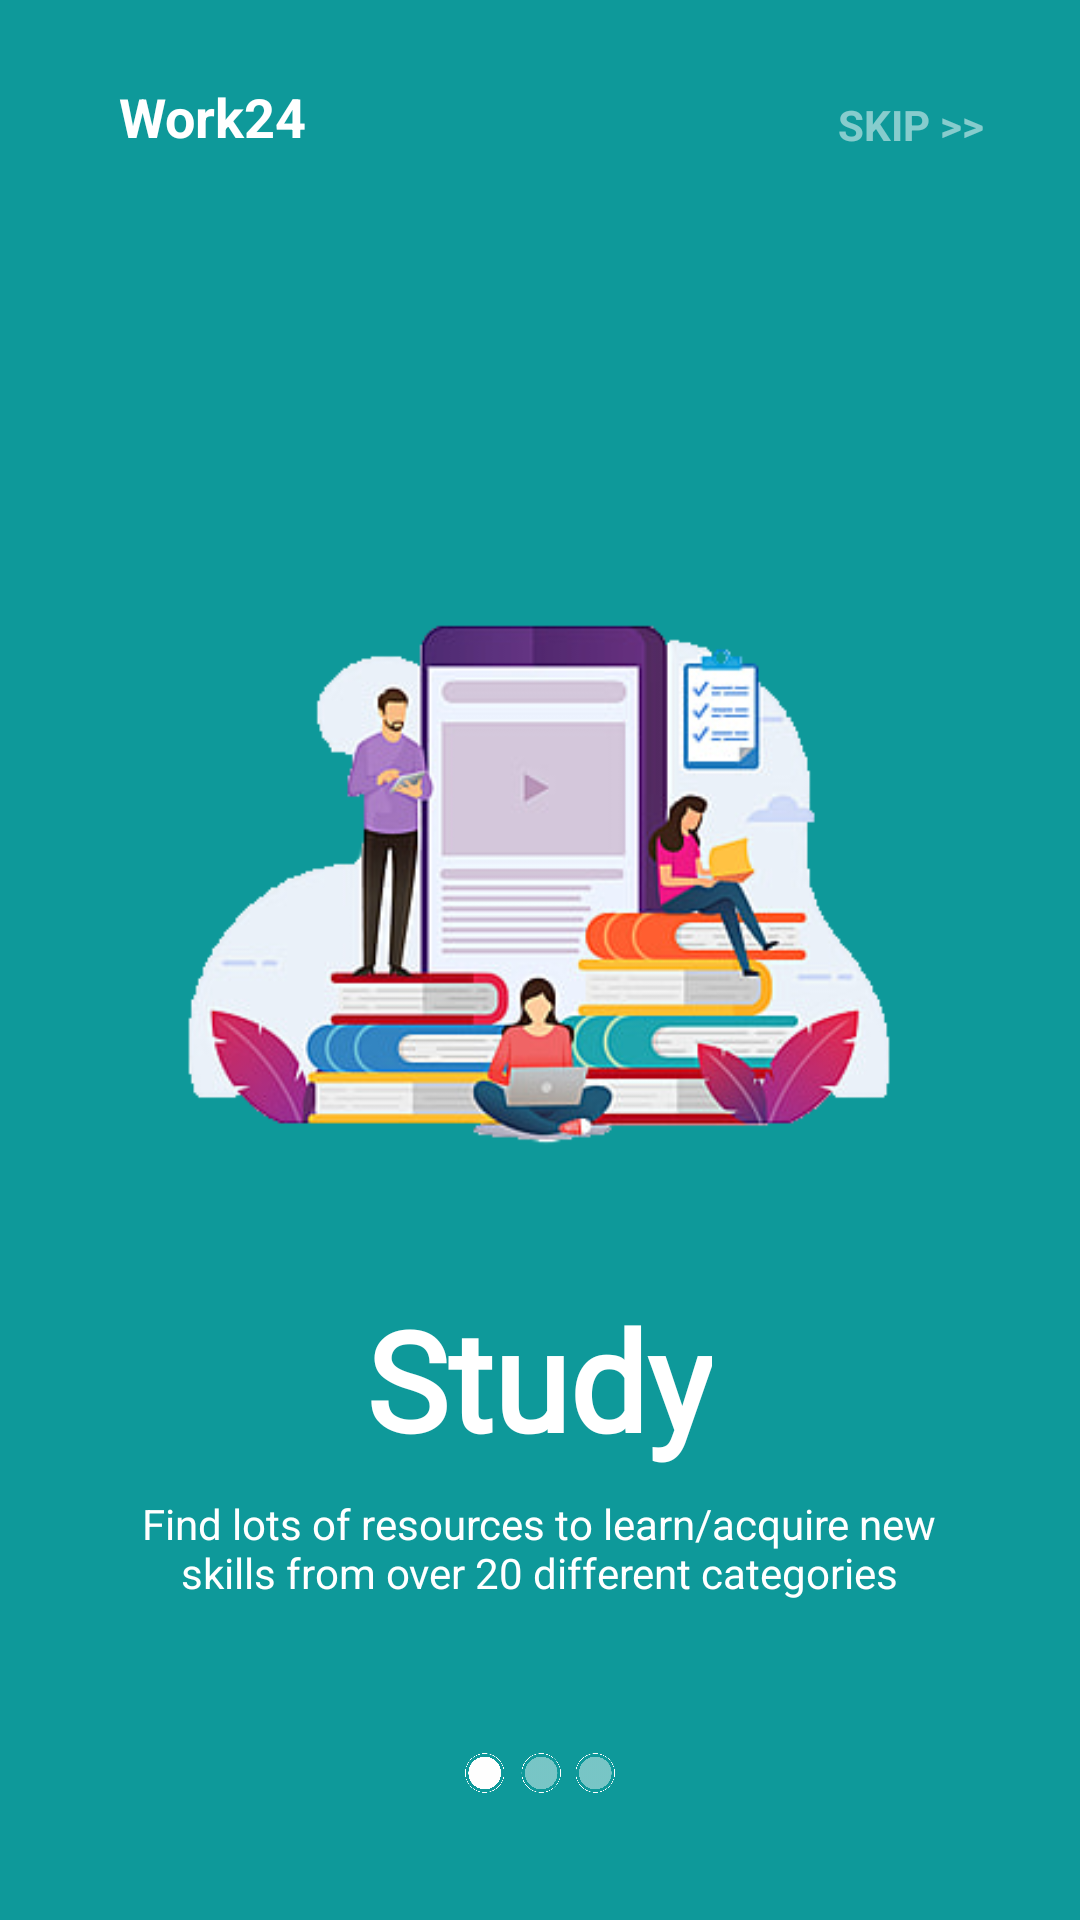

Named icons in this screenshot (1080*1920) and their bounding boxes, box(x1, y1, x2, y2):
indicator one: box(465, 1753, 615, 1793)
